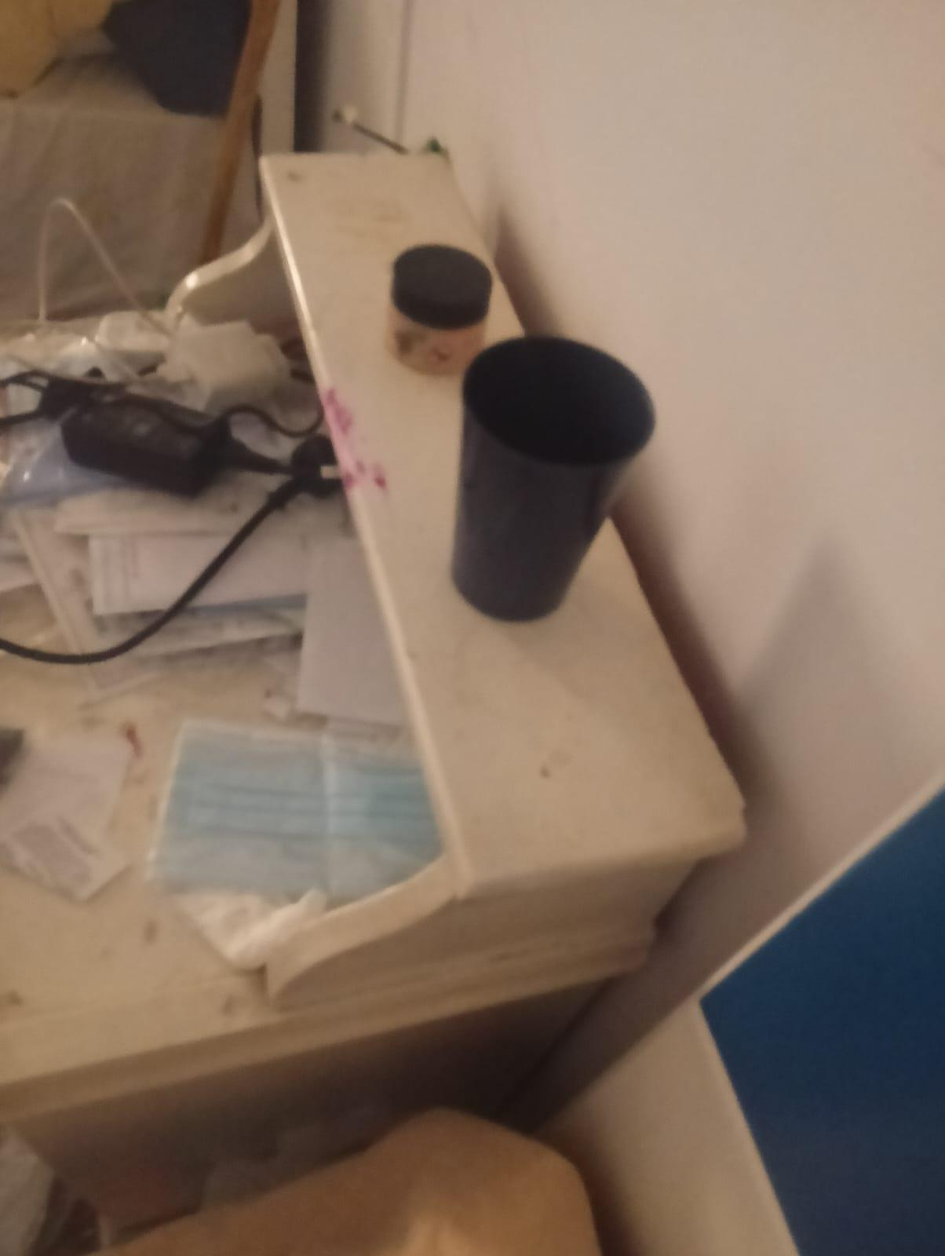cup: (451, 336, 655, 621), (467, 363, 660, 466)
